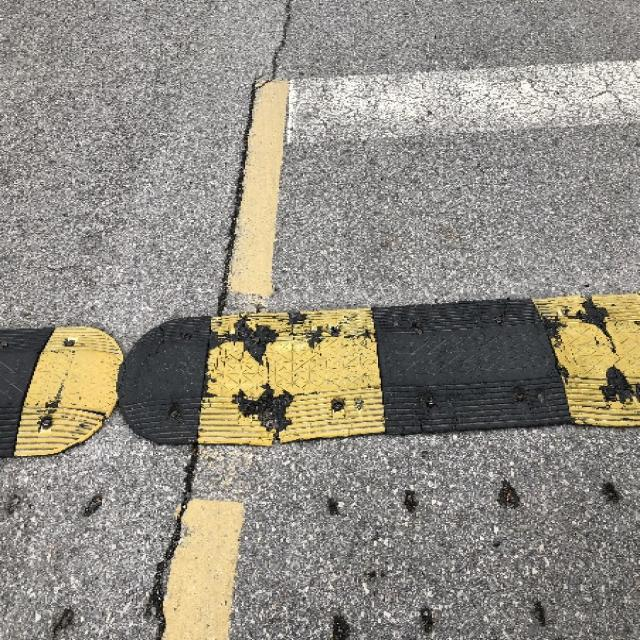Speed Bump: (7, 290, 640, 450)
